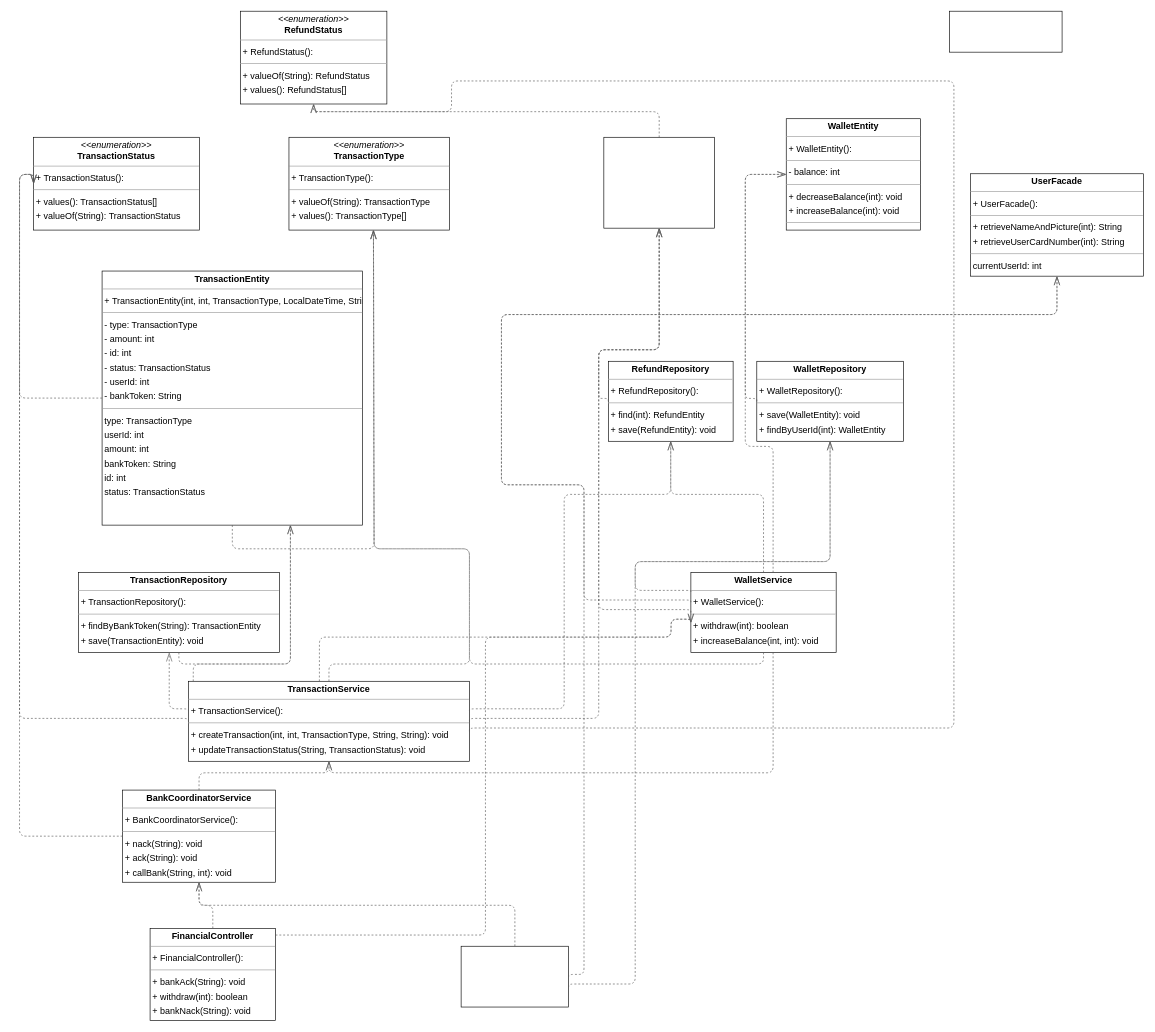
The diagram is 1155 pixels wide and 1032 high, and some of its shapes have lost their labels. Here are the shapes that lost their labels. From the top down, the centre of each, then its label:
(1005,31): FinancialFacade + FinancialFacade():
(659,182): RefundEntity + RefundEntity(): - status: RefundStatus status: RefundStatus
(514,976): BalanceRefund + BalanceRefund(): + refund(): void
